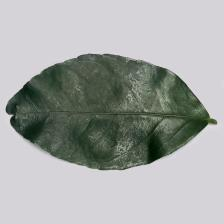healthy: (5, 53, 210, 171)
